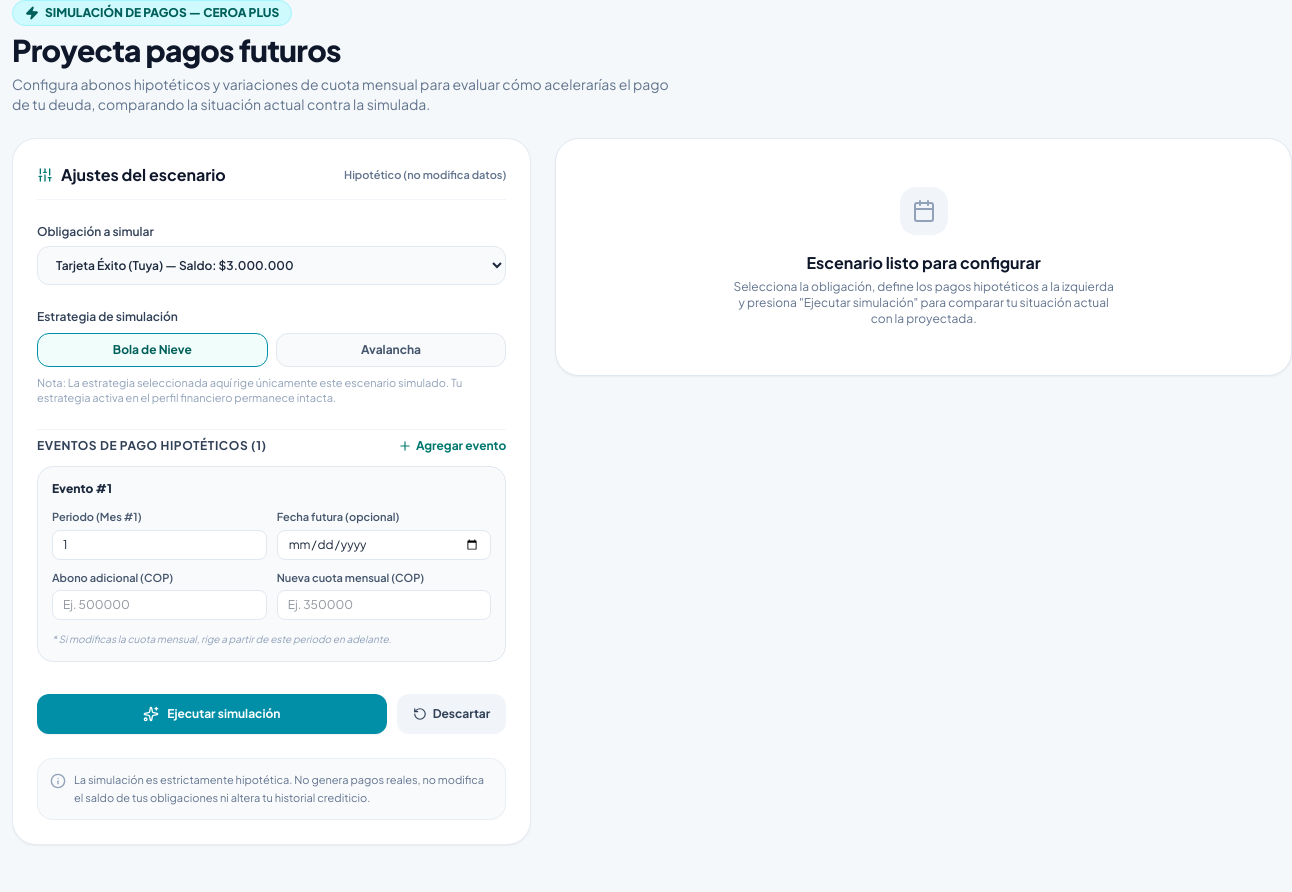
Test: EP-11 — Simulación de pagos (HU-045, HU-046, HU-047) › HU-047: Modificar o descartar escenario › Descartar escenario limpia los resultados y resetea el estado sin mutar datos reales
# Ejecutar simulación
Type "500000" into the number field with placeholder "Ej. 500000" at (159, 605), box left=52, top=590, right=267, bottom=620
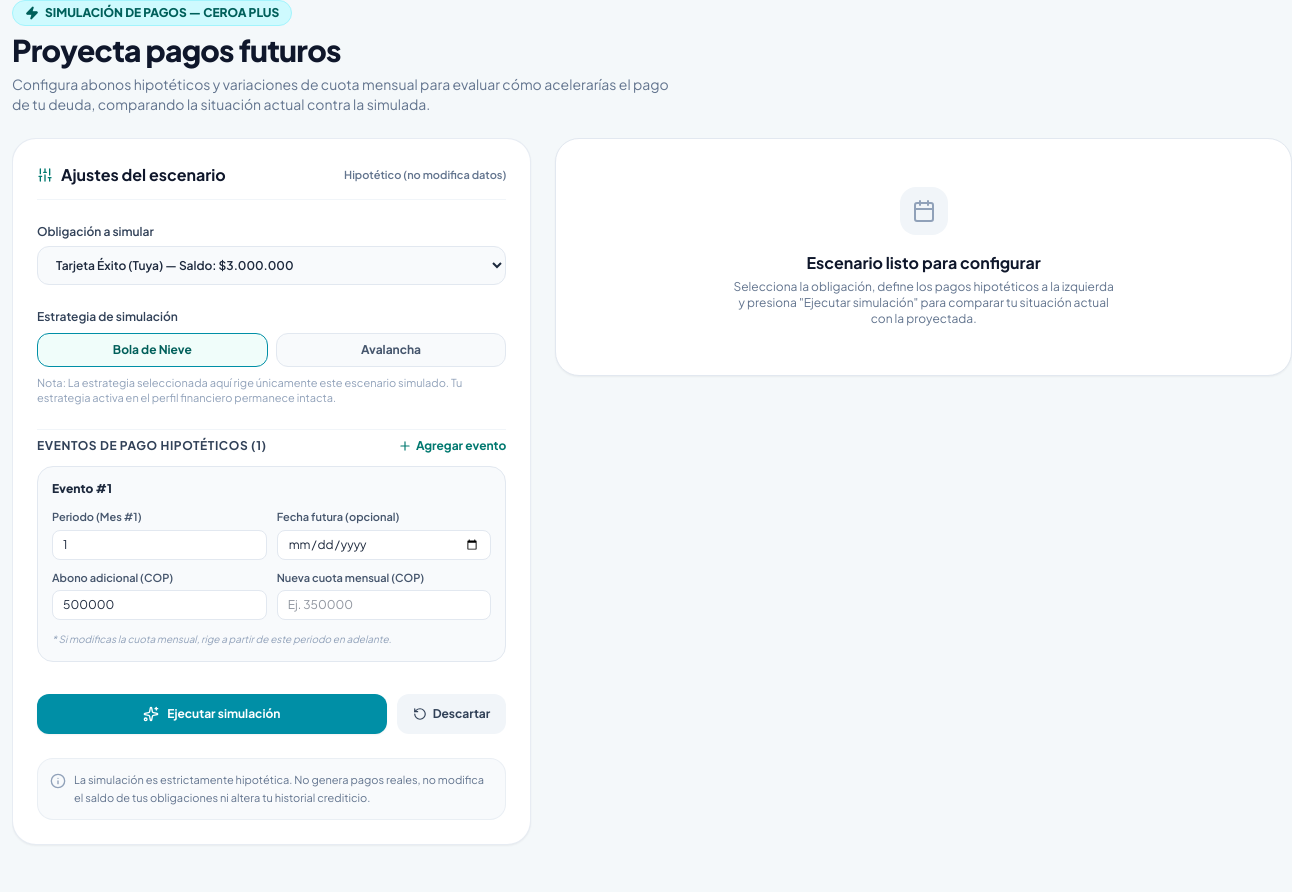
Click the button "Ejecutar simulación" at (212, 714), box left=37, top=694, right=387, bottom=734
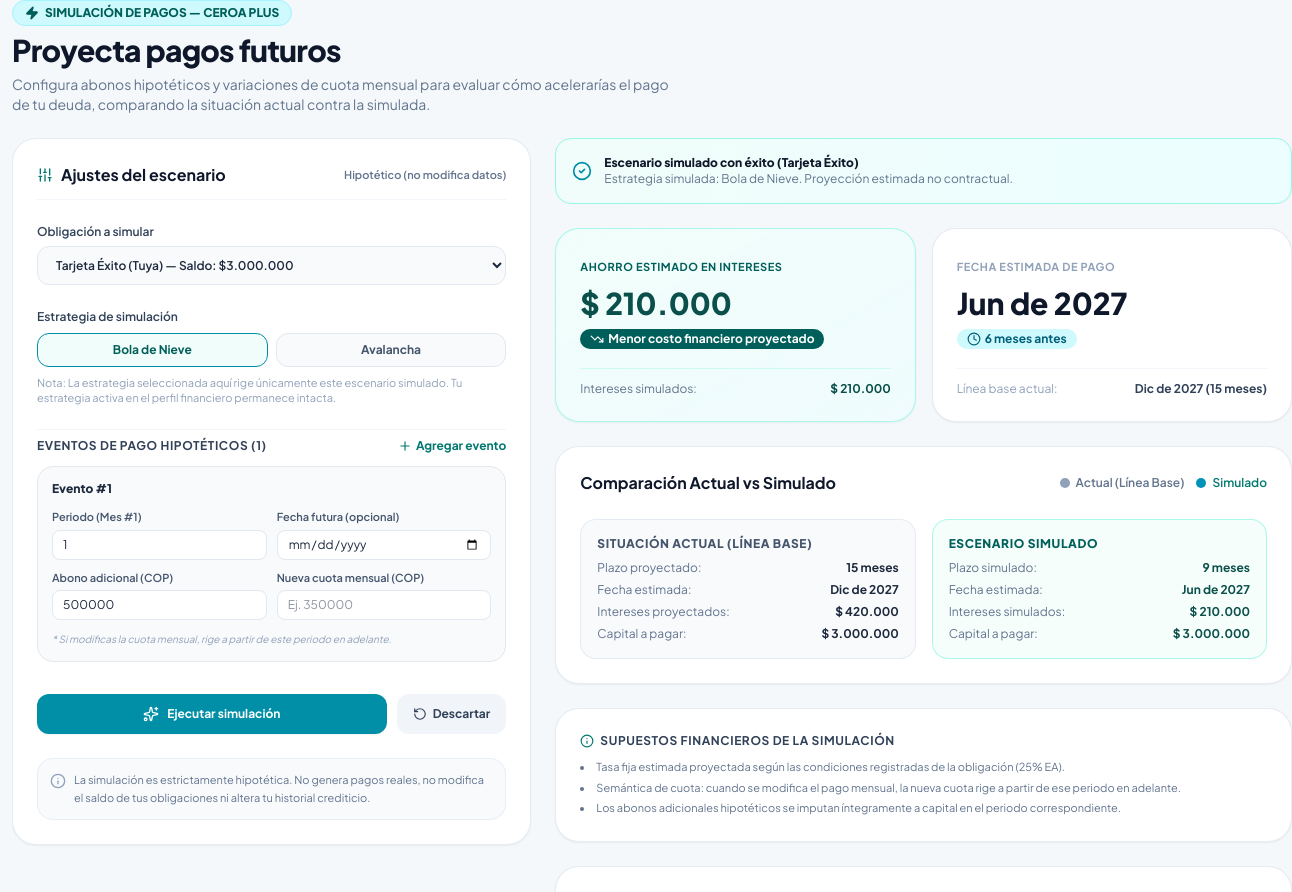
expect the text "Escenario simulado con éxito (Tarjeta Éxito)" is shown: met, box left=604, top=155, right=859, bottom=170
Click the button "Descartar" at (451, 714), box left=397, top=694, right=506, bottom=734
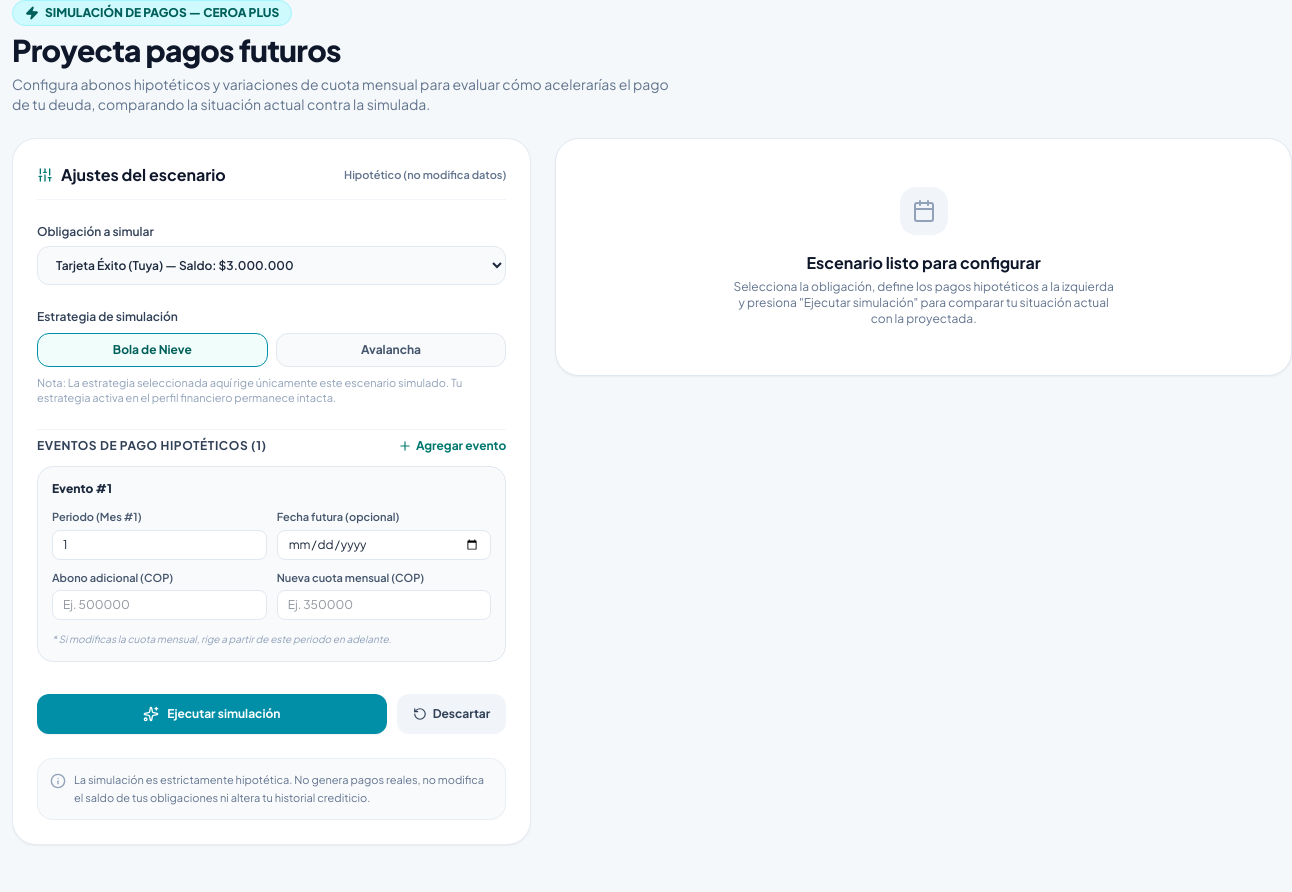
expect the heading "Escenario listo para configurar" is shown: met, box left=806, top=252, right=1041, bottom=273
expect the text "Escenario simulado con éxito" is gone: met
